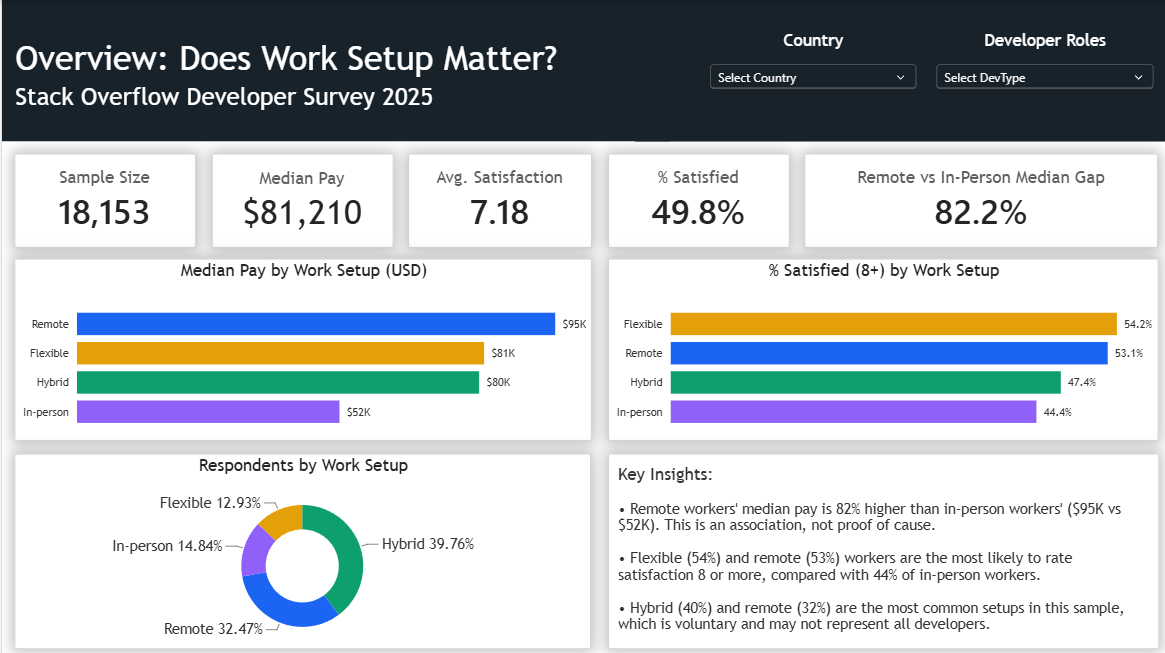

The page's visual inventory and layout, read from the dashboard file:
{"tool":"powerbi","page":{"name":"Overview","canvas":[1280,720],"ordinal":0},"visuals":[{"type":"shape","box":[0,0,732.8,155.1],"z":0},{"type":"shape","box":[695.7,0,584.6,155.1],"z":1000},{"type":"listSlicer","title":"Country","fields":{"Values":["so_survey_2025_clean.Country"]},"box":[772.6,32.9,236,90.6],"z":2000},{"type":"listSlicer","title":"Developer Roles","fields":{"Values":["so_survey_2025_clean.DevType"]},"box":[1020.9,32.9,248.4,90.6],"z":3000},{"type":"cardVisual","title":"Average satisfaction","fields":{"Data":["Measures Table.Average Satisfaction"]},"box":[446,168.8,201.7,102.9],"z":4000},{"type":"cardVisual","fields":{"Data":["Count(so_survey_2025_clean.ResponseId)"]},"box":[13.7,168.3,199,102.9],"z":5000},{"type":"cardVisual","fields":{"Data":["Measures Table.Median Pay"]},"box":[229.8,168.8,199,102.9],"z":6000},{"type":"cardVisual","title":"Average satisfaction","fields":{"Data":["Measures Table.Percent Satisfied"]},"box":[664.8,168.8,199,102.9],"z":7000},{"type":"cardVisual","title":"Average satisfaction","fields":{"Data":["Measures Table.Remote vs In person median gap"]},"box":[881,168.8,388.3,102.9],"z":8000},{"type":"clusteredBarChart","title":"Median Pay by Work Setup (USD)","fields":{"Category":["so_survey_2025_clean.RemoteWork"],"Y":["Measures Table.Median Pay"]},"box":[13.7,284,634,200.3],"z":9000},{"type":"clusteredBarChart","title":"% Satisfied (8+) by Work Setup","fields":{"Category":["so_survey_2025_clean.RemoteWork"],"Y":["Measures Table.Percent Satisfied"]},"box":[665.5,284,603.8,200.3],"z":10000},{"type":"textbox","box":[0,1,664.2,155.1],"z":11000},{"type":"donutChart","title":"Respondents by Work Setup","fields":{"Category":["so_survey_2025_clean.RemoteWork"],"Y":["CountNonNull(so_survey_2025_clean.ResponseId)"]},"box":[13.7,498.1,632.6,214.1],"z":12000},{"type":"textbox","box":[665.5,498.1,605.1,214.1],"z":13000}]}

Visuals, with their boxes in screenshot pixels (x1, y1, x2, y2), scaled from the page's 1280x720 canvas onto the 1165x653 screenshot:
shape: {"x1": 0, "y1": 0, "x2": 667, "y2": 141}
shape: {"x1": 633, "y1": 0, "x2": 1164, "y2": 141}
"Country" listSlicer: {"x1": 703, "y1": 30, "x2": 918, "y2": 112}
"Developer Roles" listSlicer: {"x1": 929, "y1": 30, "x2": 1155, "y2": 112}
"Average satisfaction" cardVisual: {"x1": 406, "y1": 153, "x2": 590, "y2": 246}
cardVisual - Count(so_survey_2025_clean.ResponseId): {"x1": 12, "y1": 153, "x2": 194, "y2": 246}
cardVisual - Measures Table.Median Pay: {"x1": 209, "y1": 153, "x2": 390, "y2": 246}
"Average satisfaction" cardVisual: {"x1": 605, "y1": 153, "x2": 786, "y2": 246}
"Average satisfaction" cardVisual: {"x1": 802, "y1": 153, "x2": 1155, "y2": 246}
"Median Pay by Work Setup (USD)" clusteredBarChart: {"x1": 12, "y1": 258, "x2": 590, "y2": 439}
"% Satisfied (8+) by Work Setup" clusteredBarChart: {"x1": 606, "y1": 258, "x2": 1155, "y2": 439}
textbox: {"x1": 0, "y1": 1, "x2": 605, "y2": 142}
"Respondents by Work Setup" donutChart: {"x1": 12, "y1": 452, "x2": 588, "y2": 646}
textbox: {"x1": 606, "y1": 452, "x2": 1156, "y2": 646}
